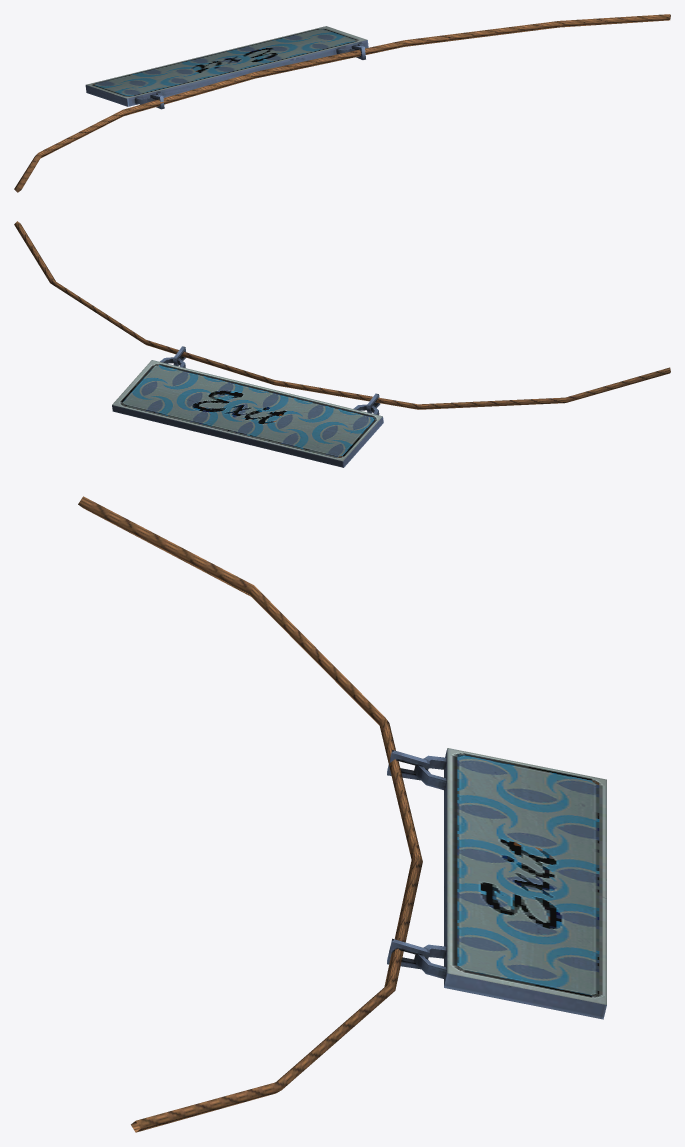
The model's file is fxanim_mp_nuked2025_gate_sign02_mod_LOD1.obj.
3 views of the same model, one above another, from view 1: azimuth 30°, elevation 25°; view 2: azimuth 150°, elevation 25°; view 3: azimuth 270°, elevation 25° (orthographic). The views are drawn at different scales.
Parts seen in each view (by area): view 1: mtl_nt_2020_street_gate_01; view 2: mtl_nt_2020_street_gate_01; view 3: mtl_nt_2020_street_gate_01.
Boxes of the visible parts, <box> form: mtl_nt_2020_street_gate_01: <box>14,14,670,192</box>; mtl_nt_2020_street_gate_01: <box>14,221,670,467</box>; mtl_nt_2020_street_gate_01: <box>78,496,606,1132</box>.
Size of the model in its own units: 140 by 11.06 by 49.88.
